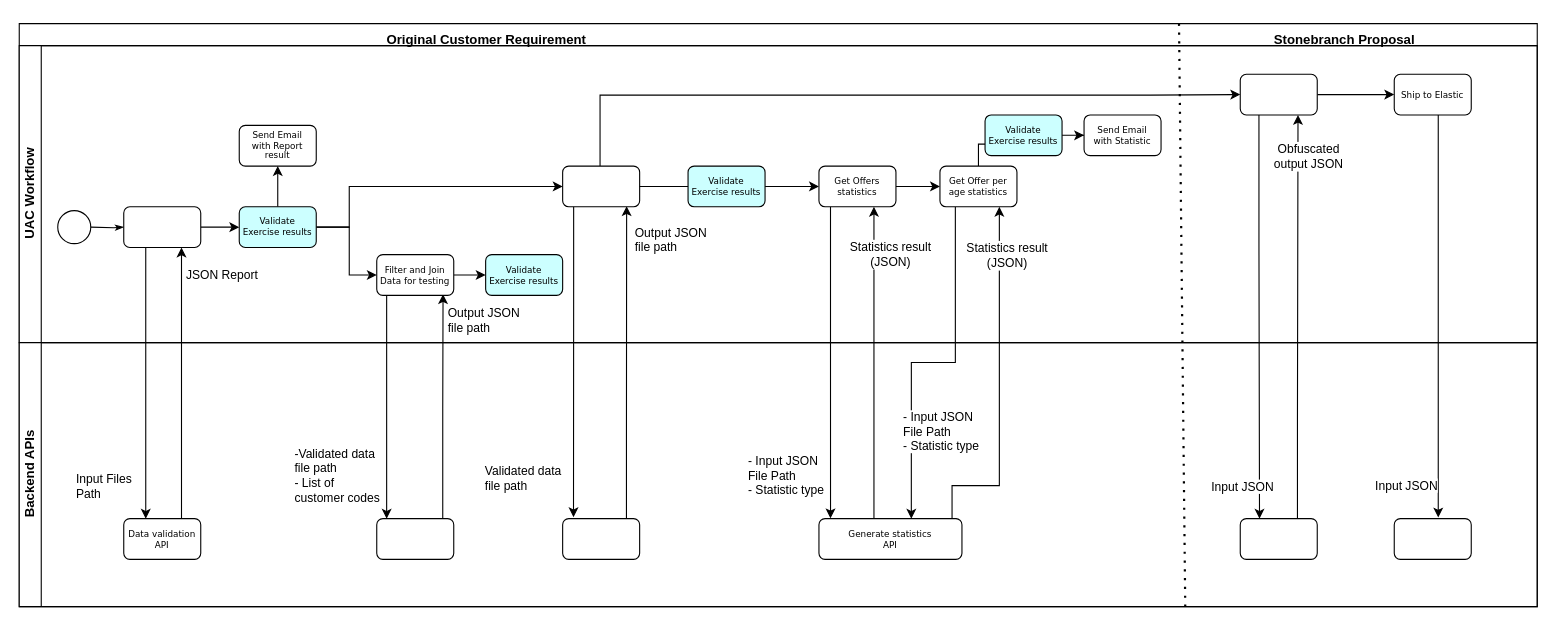
Some shapes in this 1557 by 627 pixel diagram are drawn without their labels. The centre of each missing label's shape, as x and y in pixels:
"Generate Data for statistics API" belongs at [601,538].
"Generate Data Set for testing API" belongs at [415,538].
"Join Data For Statistics" belongs at [601,186].
"Obfuscate Sensitive data" belongs at [1278,94].
"Obfuscate Sensitive data API" belongs at [1278,538].
"Ship To Elastic AÏ" belongs at [1432,538].
"Validate Data" belongs at [162,227].
